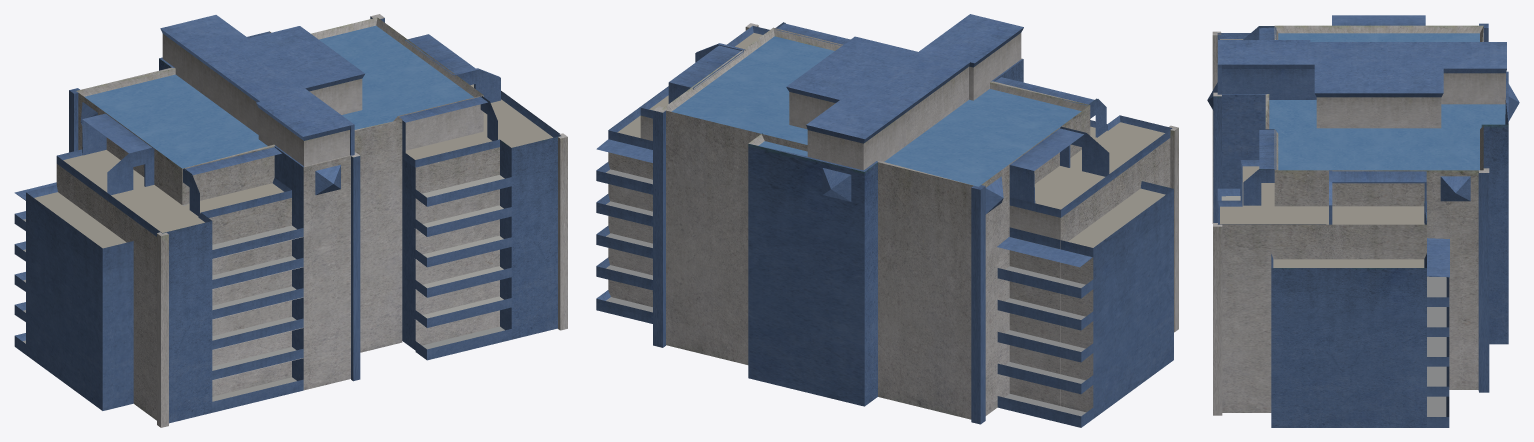
File: ORB_3_S6_Detail_3.fbx
The picture shows the model from 3 angles, left to right: view 1: azimuth 30°, elevation 25°; view 2: azimuth 150°, elevation 25°; view 3: azimuth 270°, elevation 25°; orthographic projection. The views are drawn at different scales.
Visible parts, largest first — view 1: ORB_3_S6_Detail_3; view 2: ORB_3_S6_Detail_3; view 3: ORB_3_S6_Detail_3.
Part boxes in pixels (bbox=[...]): ORB_3_S6_Detail_3: bbox=[14, 14, 567, 427]; ORB_3_S6_Detail_3: bbox=[596, 14, 1178, 427]; ORB_3_S6_Detail_3: bbox=[1207, 15, 1519, 427].
Bounding box in the file's own units: 4234 × 2233 × 2530.
